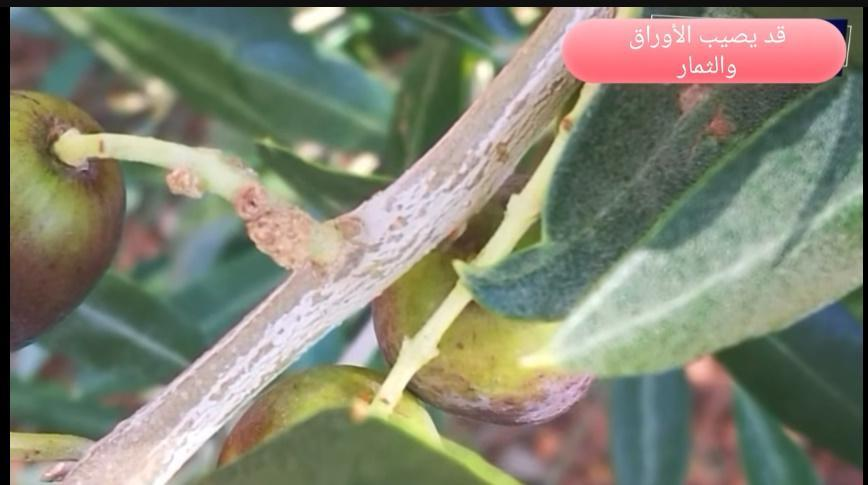Tuberculosis: (164, 155, 375, 285)
